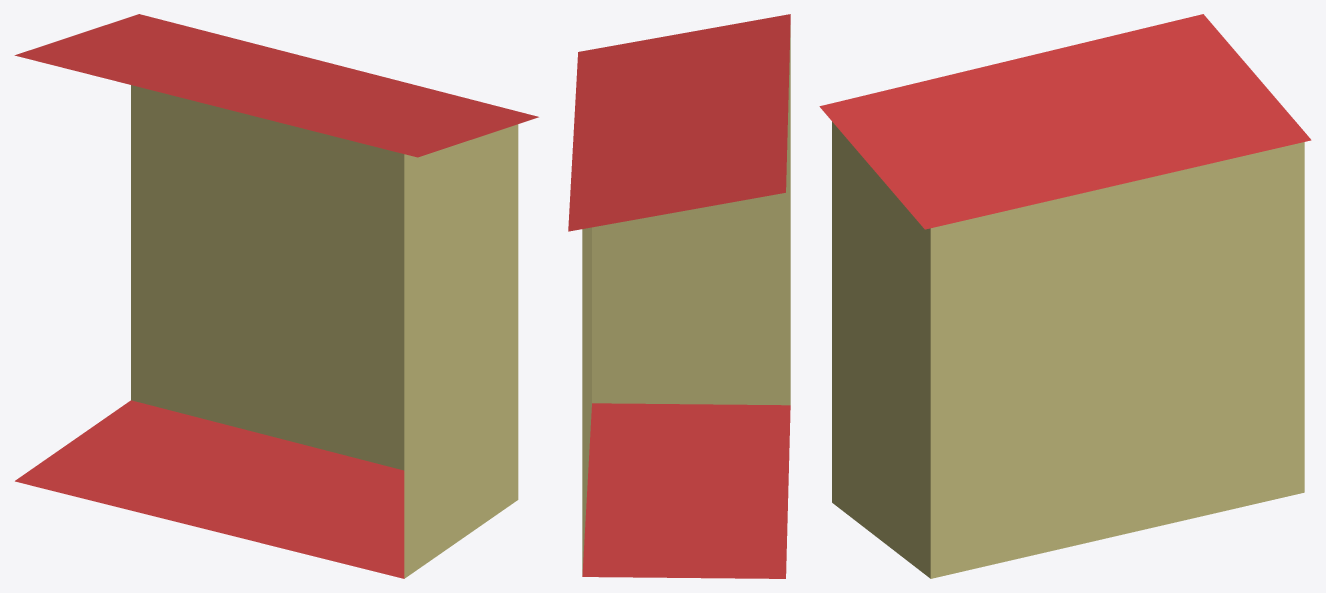
The picture shows the model from 3 angles, left to right: view 1: azimuth 30°, elevation 25°; view 2: azimuth 150°, elevation 25°; view 3: azimuth 270°, elevation 25°; orthographic projection. The views are drawn at different scales.
Size of the model in its own units: 6.96 by 8.37 by 7.51.
